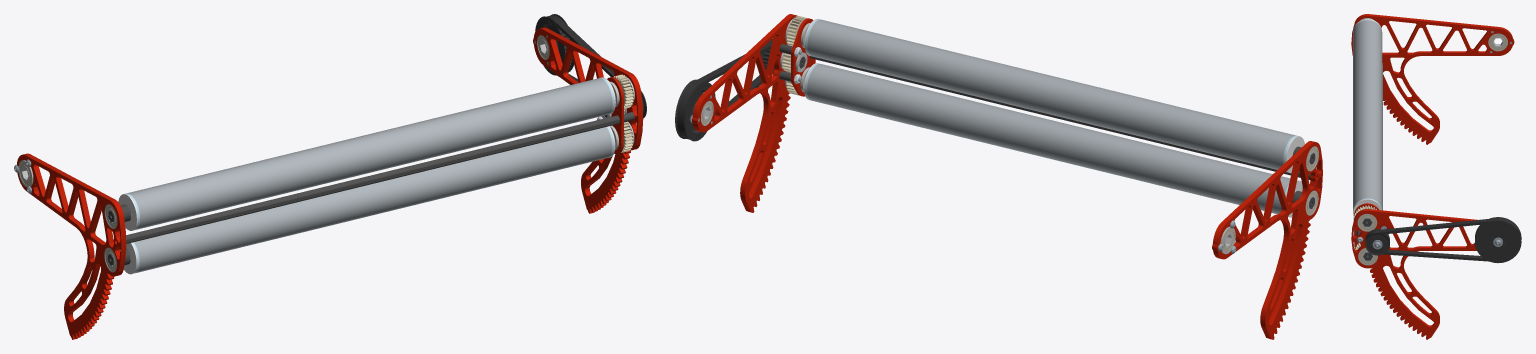
3 views of the same model, side by side, from view 1: azimuth 30°, elevation 25°; view 2: azimuth 150°, elevation 25°; view 3: azimuth 270°, elevation 25° (orthographic). The views are drawn at different scales.
Visible parts, largest first — view 1: Top Hood Roller__Top Hood Roller (×2), Left Hood Plate__Left Hood Plate, 3/8" ThunderHex (25.25 in)__3/8" ThunderHex (25.25 in), Right Hood Plate__Right Hood Plate, 100T 5M 9mm Wide Belt__100T 5M 9mm Wide Belt, 40t Custom HTD 5mm Pulley (0.394" Wide, 1/2" Hex Bore w/ WCP, Gear Support Plate__Gear Support Plate; view 2: Top Hood Roller__Top Hood Roller (×2), Left Hood Plate__Left Hood Plate, Right Hood Plate__Right Hood Plate, 3/8" ThunderHex (25.25 in)__3/8" ThunderHex (25.25 in), 100T 5M 9mm Wide Belt__100T 5M 9mm Wide Belt, 40t Custom HTD 5mm Pulley (0.394" Wide, 1/2" Hex Bore w/ WCP, Gear Support Plate__Gear Support Plate; view 3: Top Hood Roller__Top Hood Roller (×2), Left Hood Plate__Left Hood Plate, Right Hood Plate__Right Hood Plate, 40t Custom HTD 5mm Pulley (0.394" Wide, 1/2" Hex Bore w/ WCP, 100T 5M 9mm Wide Belt__100T 5M 9mm Wide Belt, 1/2" Hex Bore Bearing (1.125" OD, 0.313" WD, Shielded, Flang (×3), 20t Aluminum Pulley (HTD 5mm, 9mm Wide, 1/2" Hex Bore)__20t , Hood Roller Plug__Hood Roller Plug, Gear Support Plate__Gear Support Plate.
Boxes of the visible parts, bbox=[...] form: Top Hood Roller__Top Hood Roller (×2): bbox=[127, 78, 612, 272]; Left Hood Plate__Left Hood Plate: bbox=[17, 153, 126, 339]; 3/8" ThunderHex (25.25 in)__3/8" ThunderHex (25.25 in): bbox=[126, 115, 619, 243]; Right Hood Plate__Right Hood Plate: bbox=[533, 27, 643, 213]; 100T 5M 9mm Wide Belt__100T 5M 9mm Wide Belt: bbox=[547, 15, 644, 115]; 40t Custom HTD 5mm Pulley (0.394" Wide, 1/2" Hex Bore w/ WCP: bbox=[535, 14, 573, 75]; Gear Support Plate__Gear Support Plate: bbox=[601, 77, 624, 153]; Top Hood Roller__Top Hood Roller (×2): bbox=[807, 19, 1295, 214]; Left Hood Plate__Left Hood Plate: bbox=[1212, 141, 1322, 339]; Right Hood Plate__Right Hood Plate: bbox=[692, 14, 797, 212]; 3/8" ThunderHex (25.25 in)__3/8" ThunderHex (25.25 in): bbox=[810, 56, 1310, 179]; 100T 5M 9mm Wide Belt__100T 5M 9mm Wide Belt: bbox=[677, 40, 773, 139]; 40t Custom HTD 5mm Pulley (0.394" Wide, 1/2" Hex Bore w/ WCP: bbox=[675, 79, 715, 141]; Gear Support Plate__Gear Support Plate: bbox=[791, 18, 815, 96]; Top Hood Roller__Top Hood Roller (×2): bbox=[1353, 20, 1382, 243]; Left Hood Plate__Left Hood Plate: bbox=[1351, 14, 1514, 144]; Right Hood Plate__Right Hood Plate: bbox=[1351, 209, 1477, 339]; 40t Custom HTD 5mm Pulley (0.394" Wide, 1/2" Hex Bore w/ WCP: bbox=[1475, 217, 1521, 263]; 100T 5M 9mm Wide Belt__100T 5M 9mm Wide Belt: bbox=[1366, 218, 1520, 261]; 1/2" Hex Bore Bearing (1.125" OD, 0.313" WD, Shielded, Flang (×3): bbox=[1357, 33, 1507, 265]; 20t Aluminum Pulley (HTD 5mm, 9mm Wide, 1/2" Hex Bore)__20t : bbox=[1365, 229, 1389, 255]; Hood Roller Plug__Hood Roller Plug: bbox=[1353, 199, 1381, 217]; Gear Support Plate__Gear Support Plate: bbox=[1354, 203, 1388, 248].
Bounding box in the file's own units: 0.6982 × 0.208 × 0.2459.
